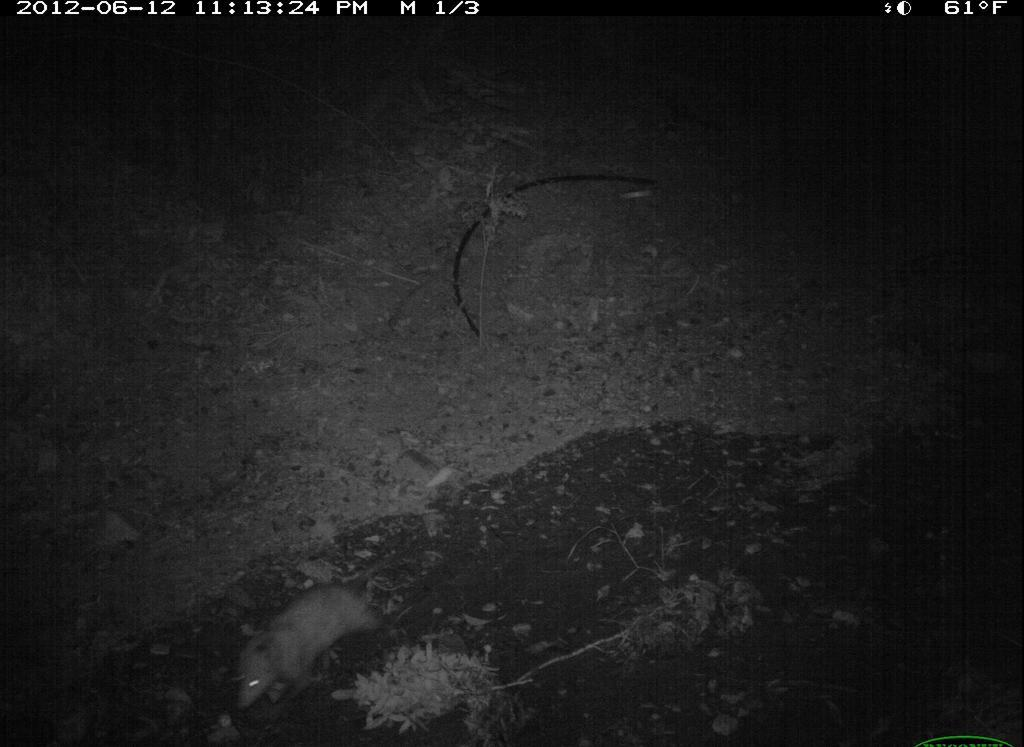opossum: (212, 573, 397, 719)
